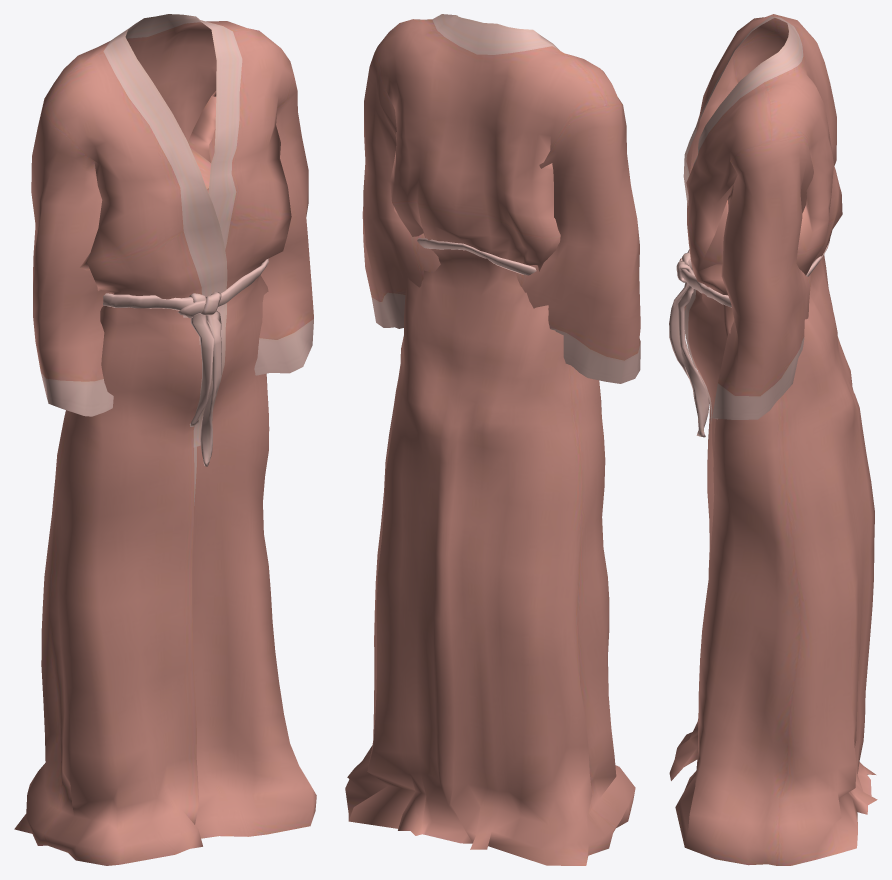
The model's file is dress_kimono.gltf.
The picture shows the model from 3 angles, left to right: view 1: azimuth 30°, elevation 25°; view 2: azimuth 150°, elevation 25°; view 3: azimuth 270°, elevation 25°; orthographic projection. The views are drawn at different scales.
Visible parts, largest first — view 1: dress_kimono; view 2: dress_kimono; view 3: dress_kimono.
Part boxes in pixels (box(x1,y1,x2,y2)): dress_kimono: box(14, 14, 316, 865); dress_kimono: box(345, 14, 640, 865); dress_kimono: box(669, 14, 877, 865).
Size of the model in its own units: 0.5485 by 1.54 by 0.3767.
Materials: 1 (1 with a texture image).
